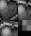heart: (0, 0, 18, 20), (18, 0, 31, 20)
